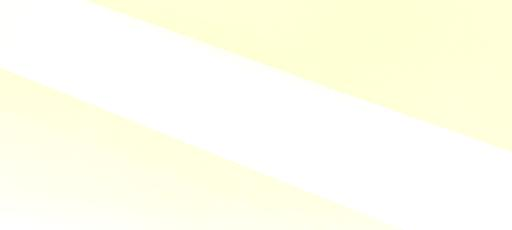letter: (54, 23, 90, 58), (264, 100, 294, 138), (186, 71, 216, 106), (404, 153, 434, 188), (463, 174, 493, 208), (292, 112, 320, 148), (434, 166, 464, 199), (319, 124, 345, 161), (212, 83, 240, 117), (346, 135, 374, 169), (28, 13, 52, 47), (110, 47, 136, 78), (85, 36, 111, 67), (240, 94, 264, 126), (164, 65, 186, 98), (140, 57, 164, 86), (380, 144, 402, 175)
